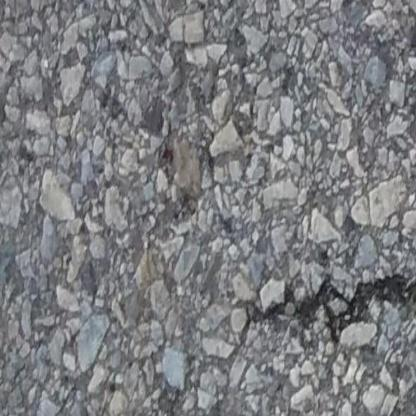Cracks: (257, 277, 416, 335)
